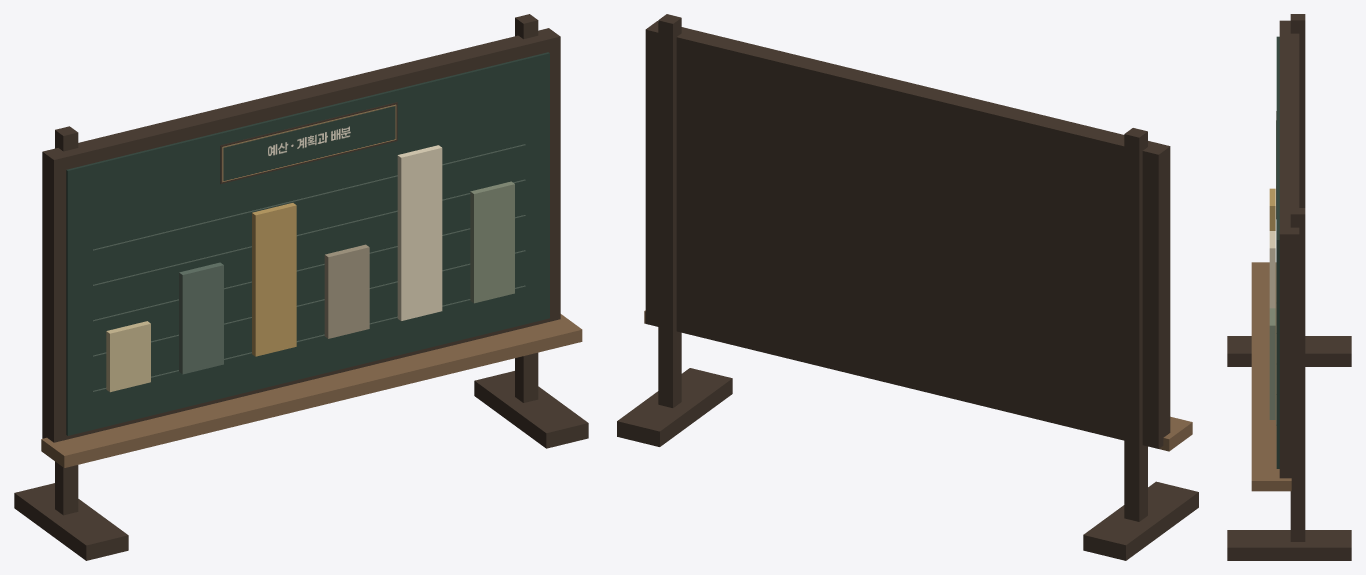
File: 04_Budget_Planning_Wall.fbx
3 views of the same model, side by side, from view 1: azimuth 30°, elevation 25°; view 2: azimuth 150°, elevation 25°; view 3: azimuth 270°, elevation 25° (orthographic). The views are drawn at different scales.
Parts seen in each view (by area): view 1: 04_Budget_Planning_Wall__Structure, 04_Budget_Planning_Wall; view 2: 04_Budget_Planning_Wall__Structure; view 3: 04_Budget_Planning_Wall__Structure, 04_Budget_Planning_Wall.
Part boxes in pixels (x1=…): 04_Budget_Planning_Wall__Structure: x1=14, y1=14, x2=588, y2=560; 04_Budget_Planning_Wall: x1=106, y1=145, x2=514, y2=392; 04_Budget_Planning_Wall__Structure: x1=617, y1=14, x2=1198, y2=560; 04_Budget_Planning_Wall__Structure: x1=1227, y1=14, x2=1351, y2=560; 04_Budget_Planning_Wall: x1=1269, y1=188, x2=1275, y2=419.
Bounding box in the file's own units: 491 × 358 × 118.
Materials: 1 (1 with a texture image).
